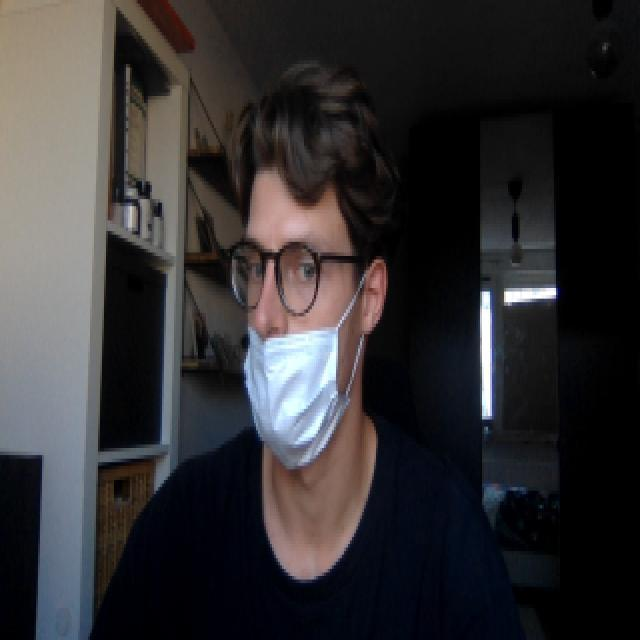hairnet: (242, 264, 371, 470)
